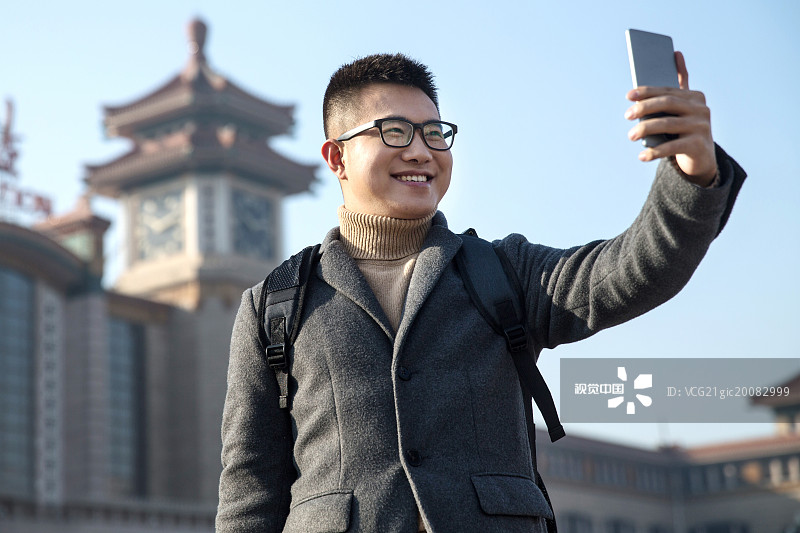taking photos: (596, 26, 753, 195)
